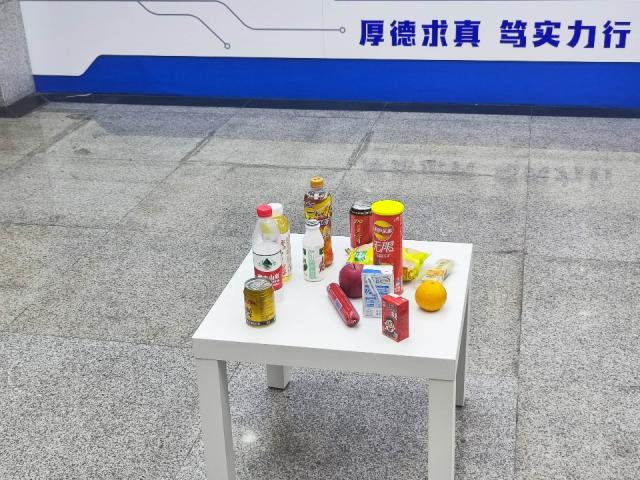Canned_drinks: (243, 278, 279, 326), (349, 201, 373, 246)
bottle: (251, 207, 282, 281), (301, 220, 324, 282)
cylinder: (371, 198, 406, 266)
drink_box: (382, 294, 409, 341), (363, 266, 384, 316)
